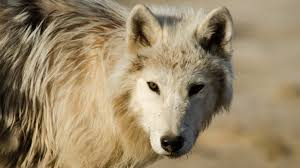wolf: (1, 4, 239, 153)
